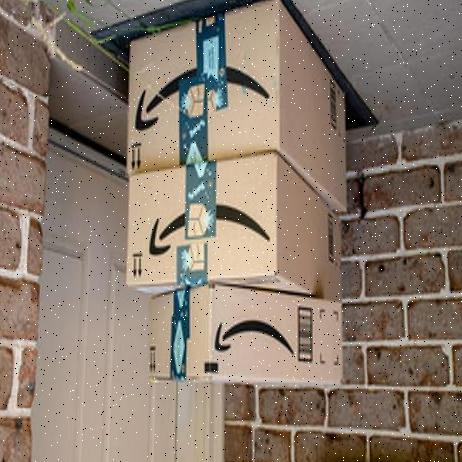Amazon: (126, 1, 350, 212), (126, 153, 341, 301), (153, 284, 342, 388)
